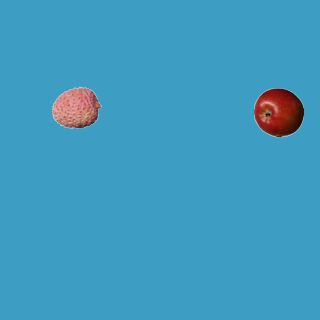Apple Braeburn: (253, 87, 303, 137)
Lychee: (51, 82, 101, 132)
